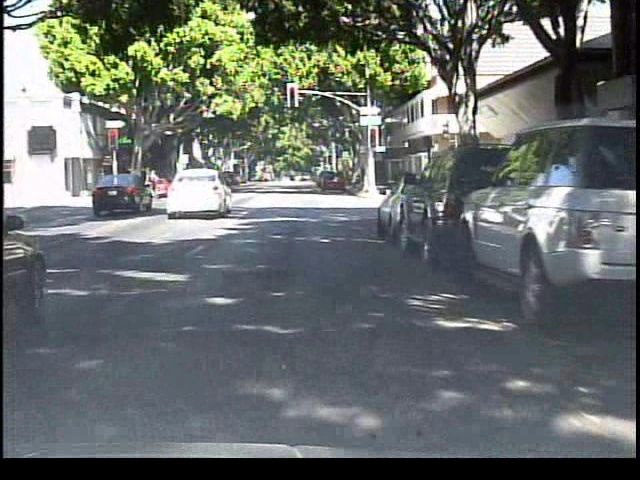person: (146, 165, 163, 194)
